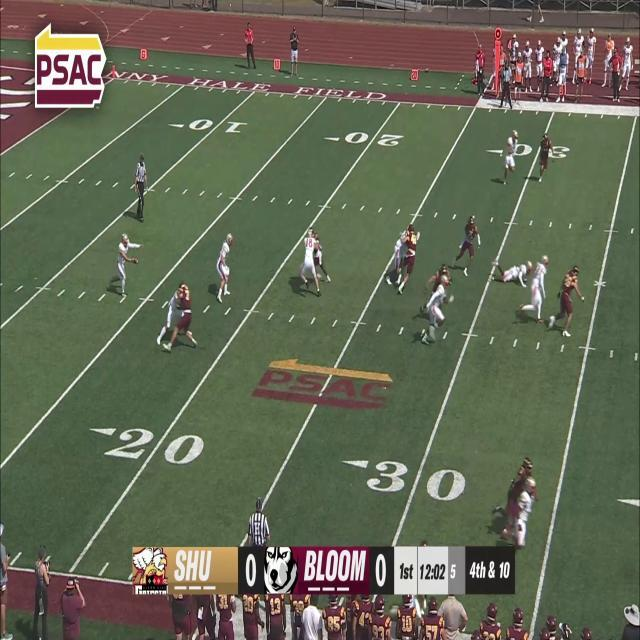football: (132, 256, 138, 264)
